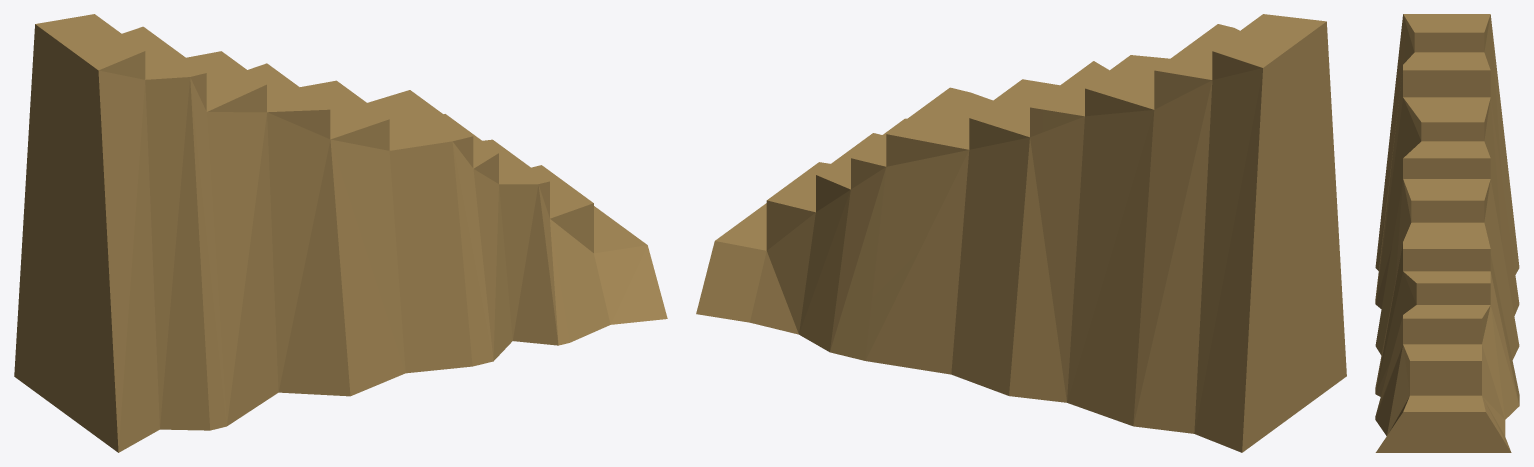
The model's file is Terrain_Modular_Tiles_Dirt_Stairs_03.fbx.
The picture shows the model from 3 angles, left to right: view 1: azimuth 30°, elevation 25°; view 2: azimuth 150°, elevation 25°; view 3: azimuth 270°, elevation 25°; orthographic projection. The views are drawn at different scales.
Visible parts, largest first — view 1: Terrain_Modular_Tiles_Dirt_Stairs_03; view 2: Terrain_Modular_Tiles_Dirt_Stairs_03; view 3: Terrain_Modular_Tiles_Dirt_Stairs_03.
Boxes of the visible parts, x1,y1,x2,y2 form: Terrain_Modular_Tiles_Dirt_Stairs_03: (14,14,667,452); Terrain_Modular_Tiles_Dirt_Stairs_03: (696,14,1346,452); Terrain_Modular_Tiles_Dirt_Stairs_03: (1375,14,1519,452).
Size of the model in its own units: 3750 by 2400 by 1234.
